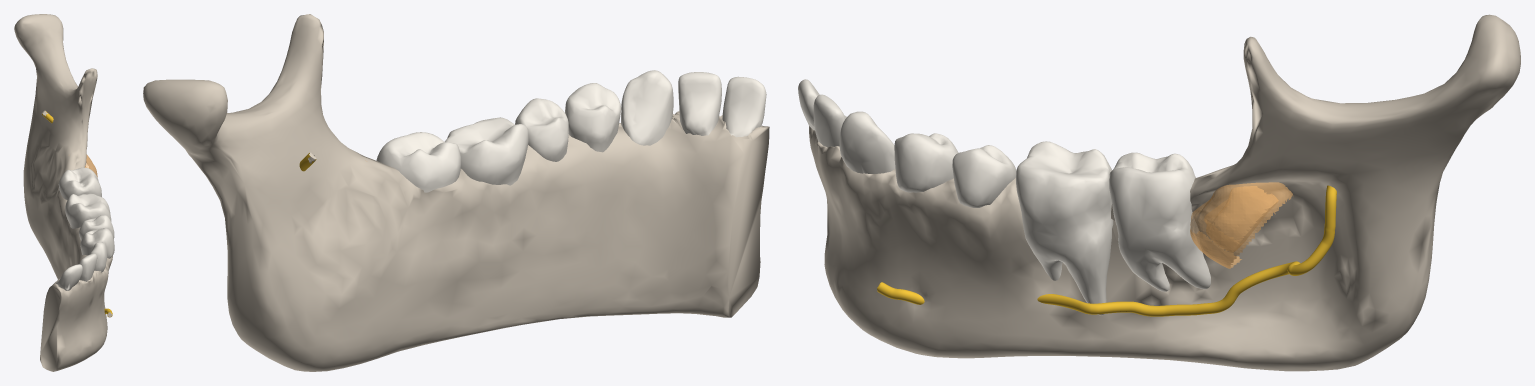
The model's file is removal-after.glb.
3 views of the same model, side by side, from view 1: azimuth 30°, elevation 25°; view 2: azimuth 150°, elevation 25°; view 3: azimuth 270°, elevation 25° (orthographic). The views are drawn at different scales.
Visible parts, largest first — view 1: mandible left, teeth_2, removed bone, nerve_2; view 2: mandible left, teeth_2; view 3: mandible left, teeth_2, removed bone, nerve_2.
Part boxes in pixels (bbox=[...]): mandible left: bbox=[14, 14, 112, 371]; teeth_2: bbox=[55, 167, 114, 290]; removed bone: bbox=[85, 154, 97, 177]; nerve_2: bbox=[42, 111, 112, 316]; mandible left: bbox=[143, 14, 769, 371]; teeth_2: bbox=[376, 70, 766, 192]; mandible left: bbox=[809, 14, 1520, 371]; teeth_2: bbox=[798, 79, 1210, 315]; removed bone: bbox=[1190, 182, 1292, 268]; nerve_2: bbox=[877, 185, 1336, 316].
Size of the model in its own units: 0.0913 by 0.1057 by 0.1665.
